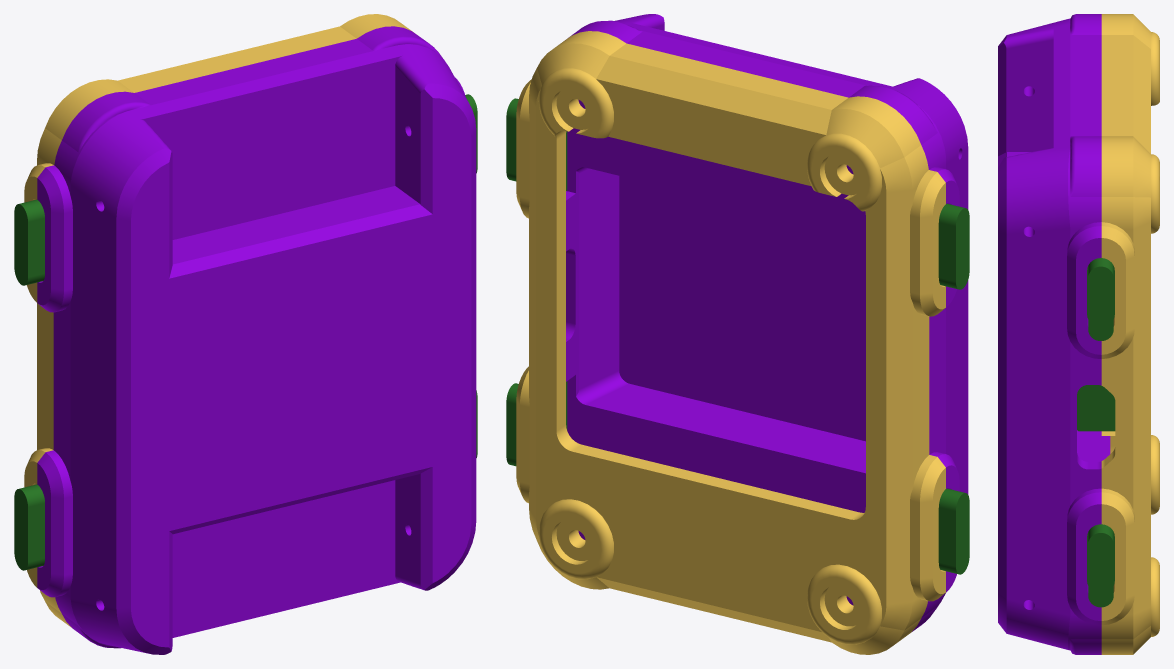
File: Armadillonium_Model.glb
3 views of the same model, side by side, from view 1: azimuth 30°, elevation 25°; view 2: azimuth 150°, elevation 25°; view 3: azimuth 270°, elevation 25° (orthographic). The views are drawn at different scales.
Visible parts, largest first — view 1: bottom:1, top:1, button:3, button:4; view 2: top:1, bottom:1, button:4, button:3, button:1, button:2; view 3: bottom:1, top:1, button:2, button:1, button:3.
Part boxes in pixels (x1=…): bottom:1: x1=37, y1=26, x2=476, y2=654; top:1: x1=24, y1=14, x2=413, y2=627; button:3: x1=14, y1=484, x2=44, y2=570; button:4: x1=14, y1=199, x2=44, y2=285; top:1: x1=516, y1=31, x2=945, y2=654; bottom:1: x1=566, y1=14, x2=968, y2=631; button:4: x1=938, y1=203, x2=969, y2=289; button:3: x1=938, y1=488, x2=969, y2=574; button:1: x1=506, y1=98, x2=567, y2=190; button:2: x1=506, y1=381, x2=567, y2=466; bottom:1: x1=998, y1=14, x2=1110, y2=654; top:1: x1=1101, y1=14, x2=1159, y2=654; button:2: x1=1087, y1=524, x2=1114, y2=607; button:1: x1=1087, y1=258, x2=1114, y2=340; button:3: x1=1077, y1=385, x2=1115, y2=431.
Size of the model in its own units: 0.0436 by 0.0504 by 0.0146.
